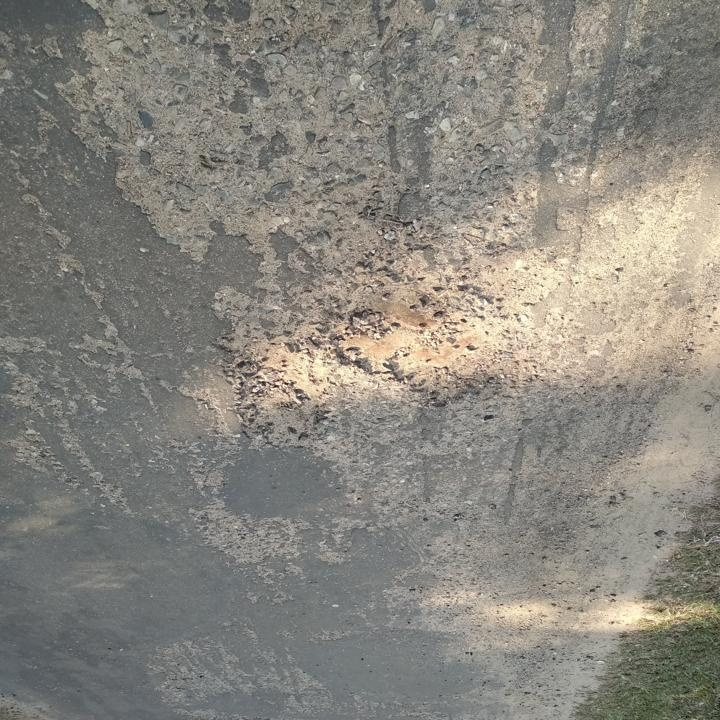pothole: (333, 270, 525, 409), (222, 328, 337, 447)
